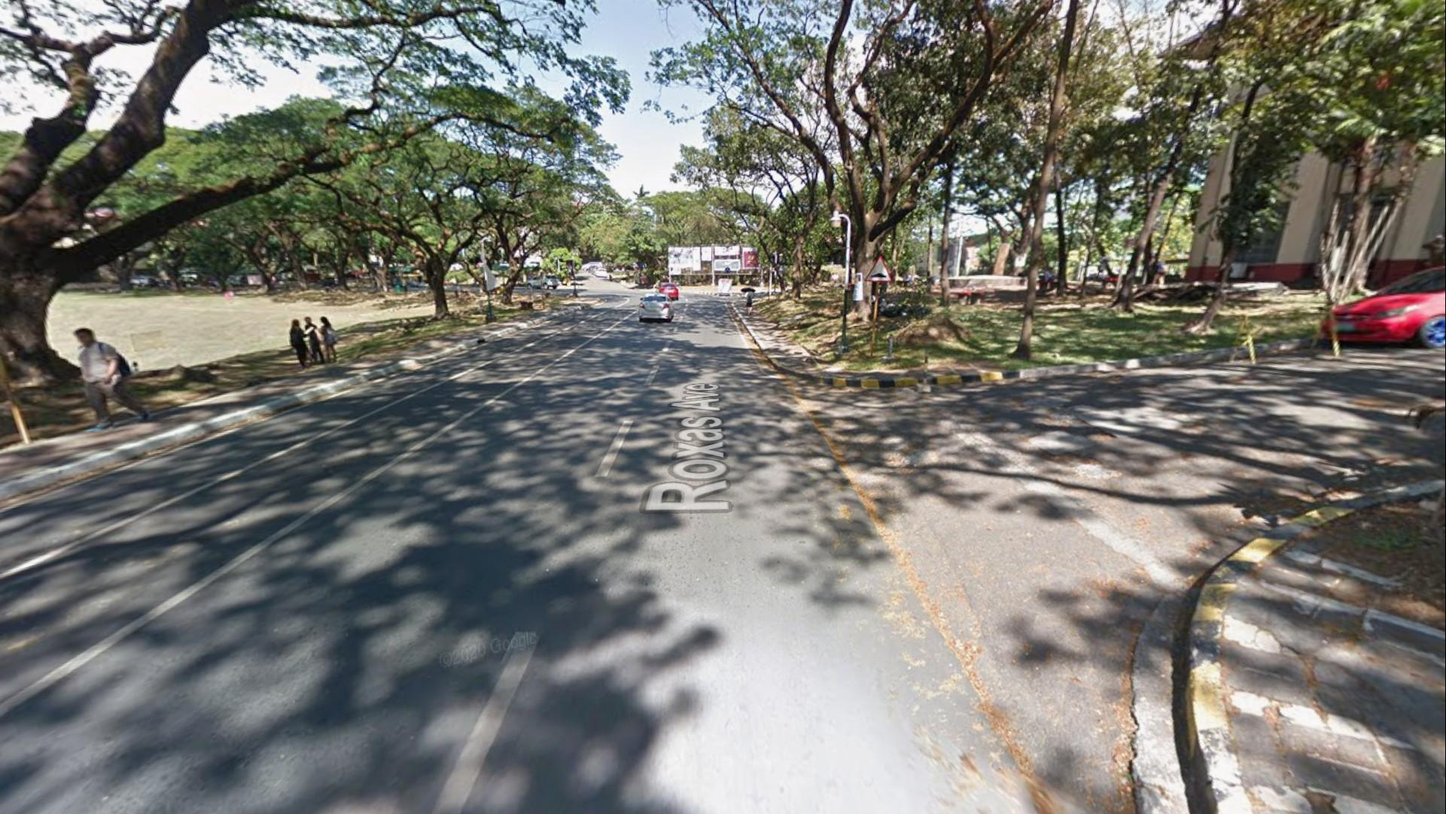pedestrian: (72, 325, 150, 433), (289, 318, 311, 370), (302, 316, 325, 365), (316, 316, 339, 363), (744, 286, 755, 317)
